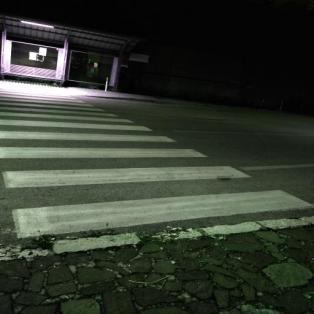Paso de Cebra: (0, 129, 213, 165)
